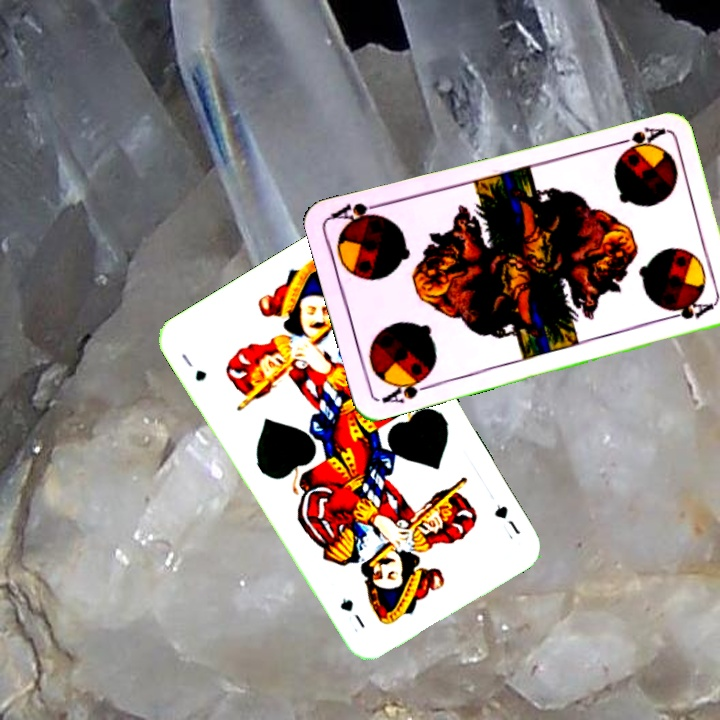GU: (490, 500, 523, 542), (177, 349, 209, 384)
SA: (377, 370, 436, 406), (608, 122, 667, 151)
